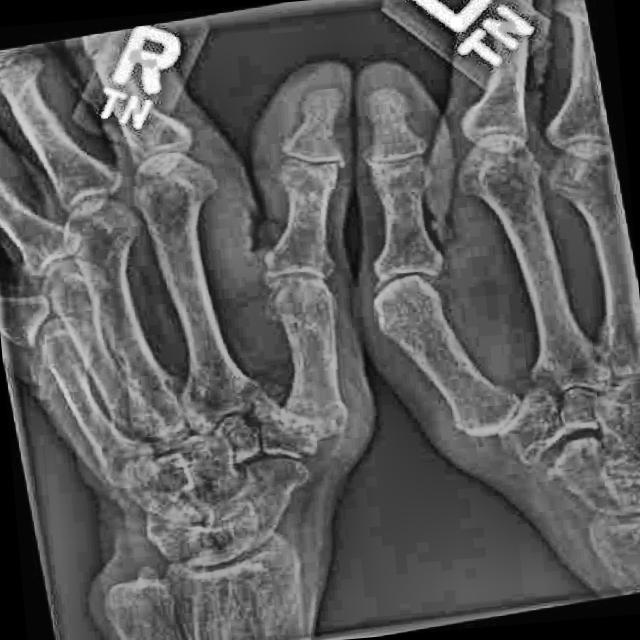fingers positive: (431, 381, 521, 418), (297, 81, 348, 120)
